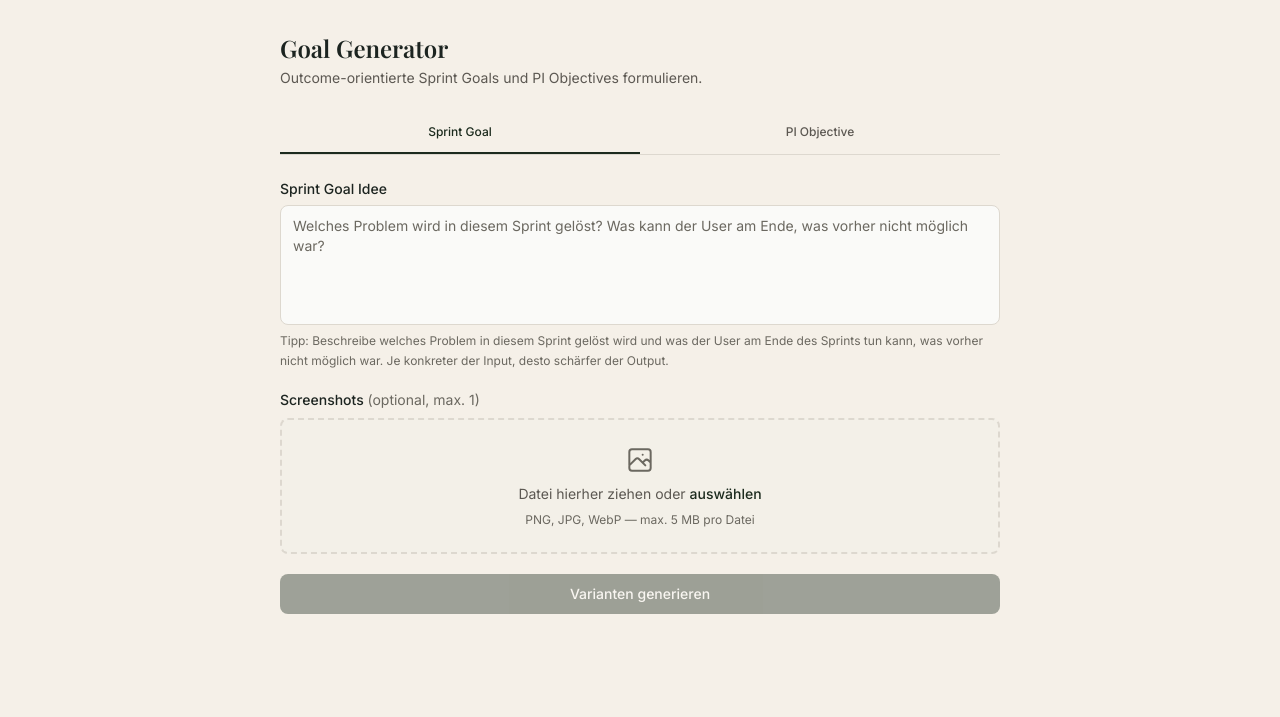
Scenario: GoalGeneratorPage — Tab-Wechsel › wechselt Tab und löscht Eingaben bei Bestätigen
This screenshot has width=1280, height=717.
Type "Meine Idee" into the text box labelled "Sprint Goal Idee" at coordinates (640, 265), box [280, 205, 1000, 325]
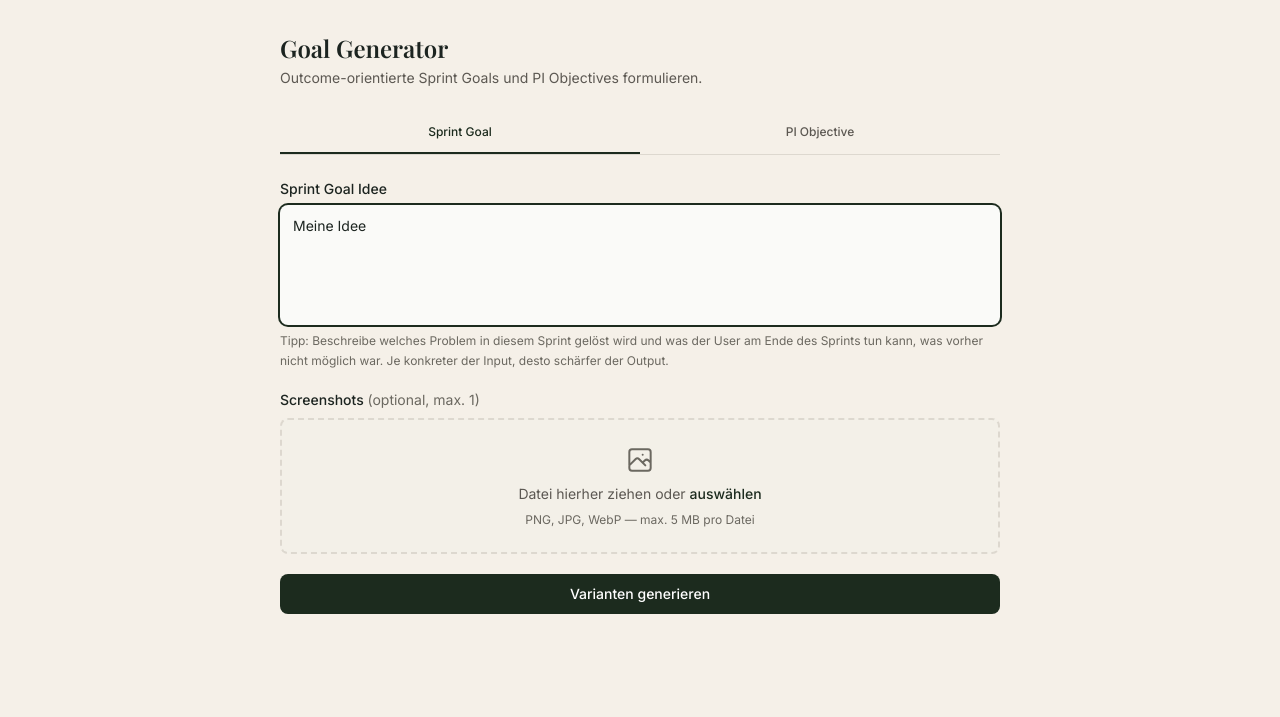
Click the tab "PI Objective" at coordinates (820, 133), box [640, 112, 1000, 154]
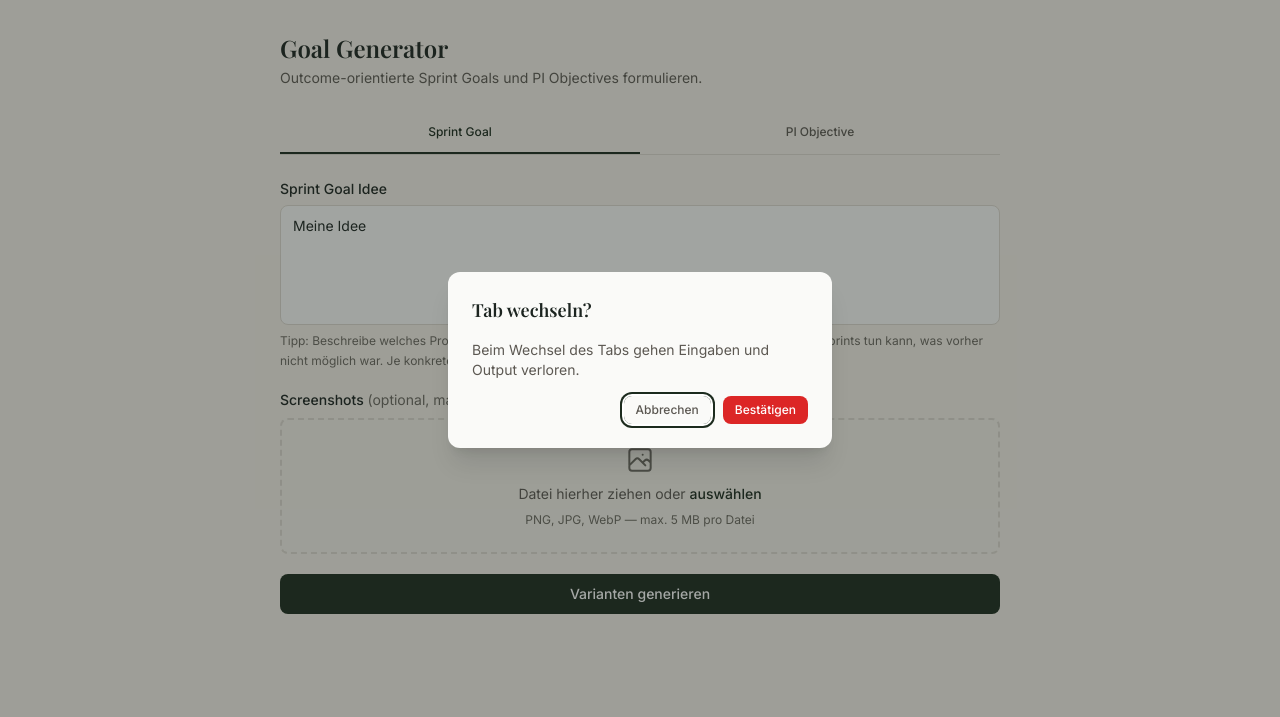
Click the button "Bestätigen" at coordinates (765, 410), box [723, 396, 808, 424]
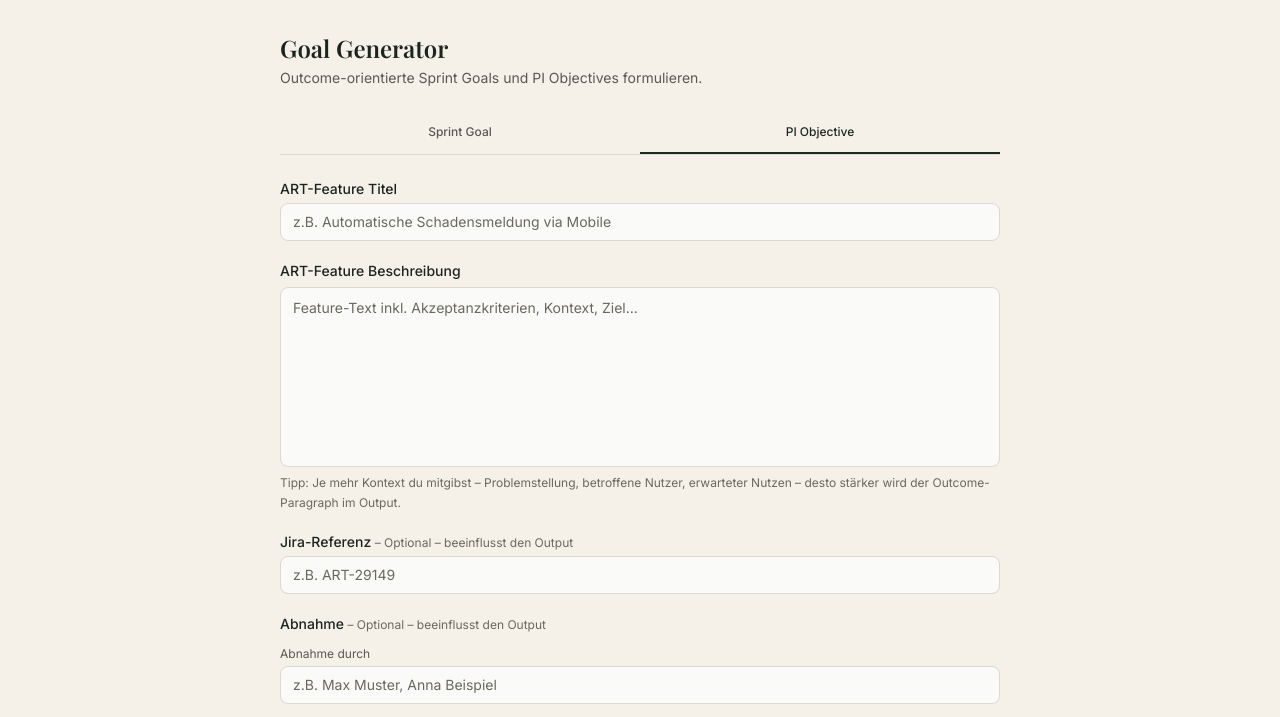
Expected: the field labelled "ART-Feature Titel" is shown, [280, 203, 1000, 241]
